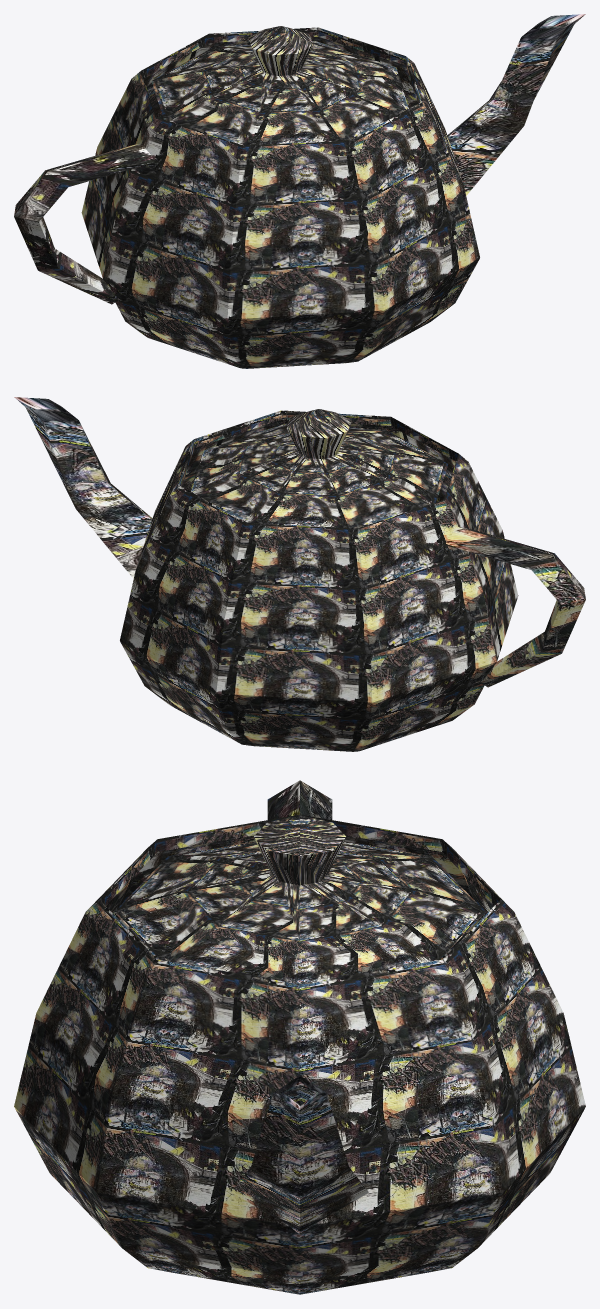
Rendered from Drainpot.glb.
3 views of the same model, one above another, from view 1: azimuth 30°, elevation 25°; view 2: azimuth 150°, elevation 25°; view 3: azimuth 270°, elevation 25° (orthographic). The views are drawn at different scales.
Visible parts, largest first — view 1: Teapot; view 2: Teapot; view 3: Teapot.
Part boxes in pixels (left/top/right/bottom): Teapot: left=14, top=14, right=585, bottom=368; Teapot: left=14, top=397, right=585, bottom=751; Teapot: left=14, top=780, right=585, bottom=1294.
Bounding box in the file's own units: 6.43 × 3.15 × 4.
Materials: 1 (1 with a texture image).
